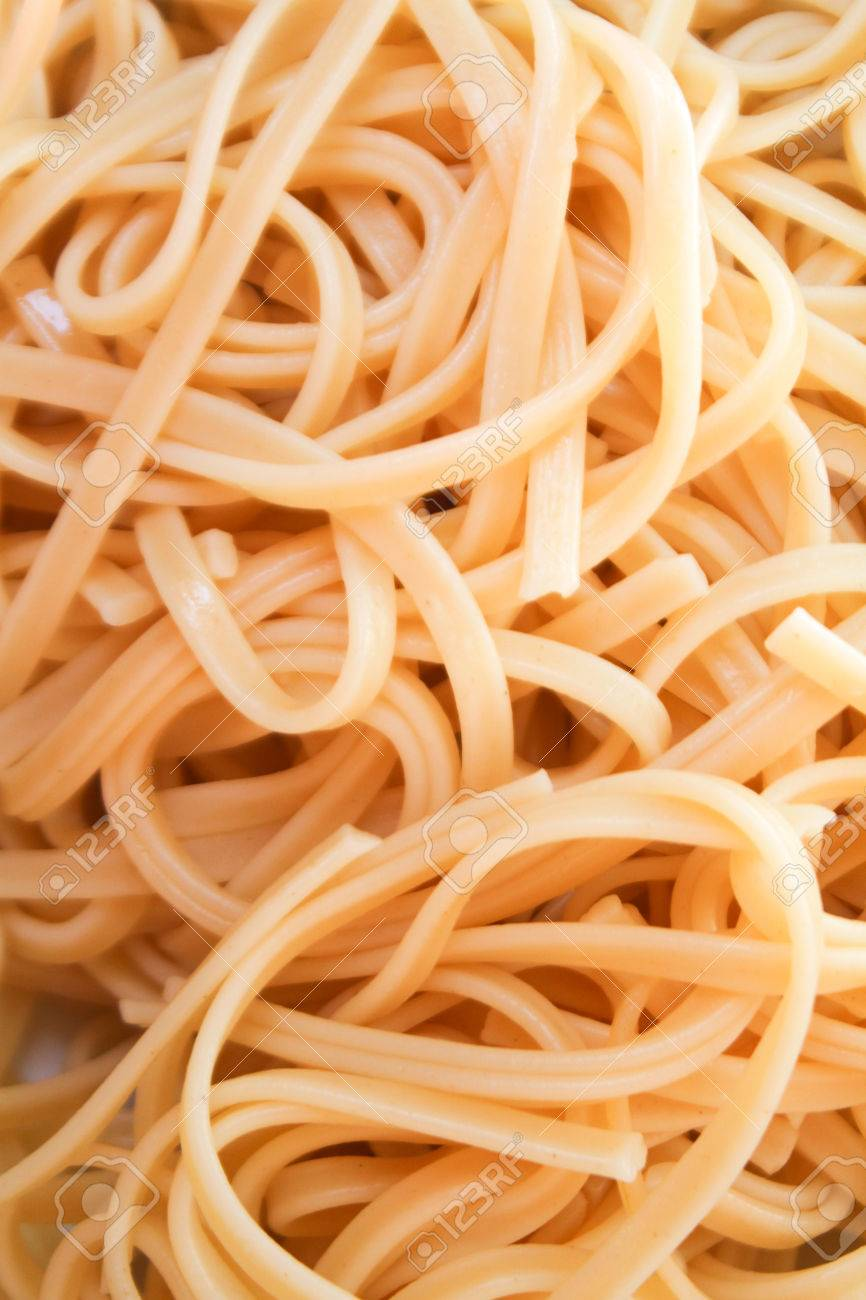plain spaghetti: (27, 2, 863, 1300)
